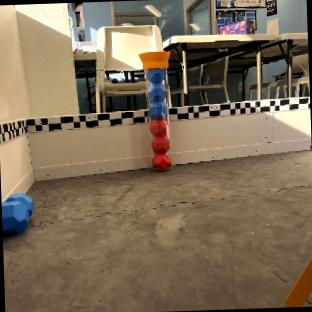V5_BLUE: (1, 194, 33, 235), (150, 95, 166, 119)
V5_RED: (141, 52, 172, 171), (151, 119, 169, 169), (153, 153, 171, 171), (151, 118, 167, 136)
